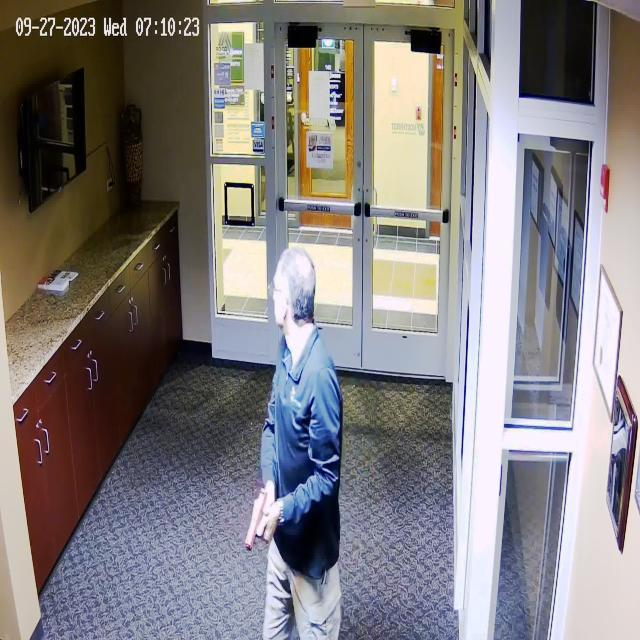Gun: (240, 474, 287, 554)
